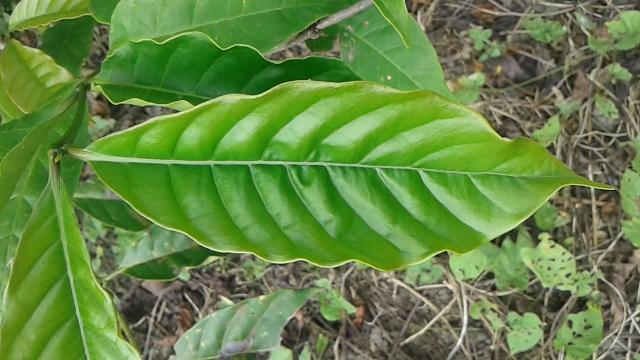healthy: (81, 78, 608, 272)
